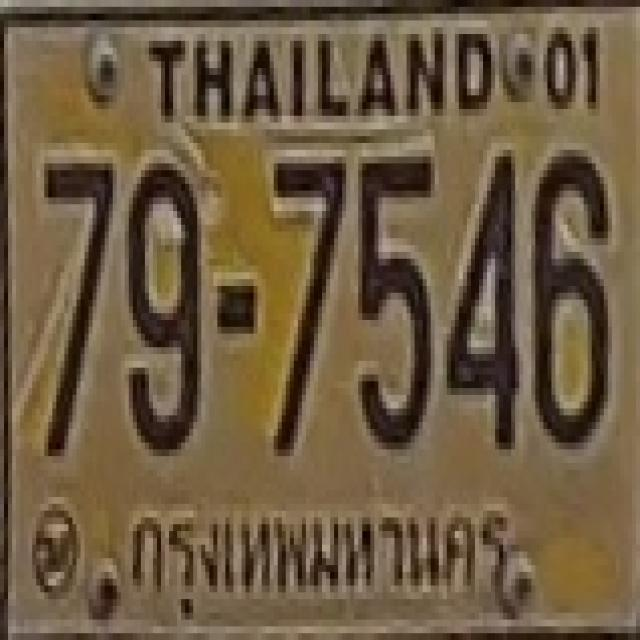4: (443, 146, 515, 440)
5: (354, 150, 431, 442)
6: (531, 150, 604, 442)
7: (40, 156, 113, 450), (272, 156, 344, 450)
9: (125, 156, 197, 450)
BKK: (119, 500, 516, 622)
